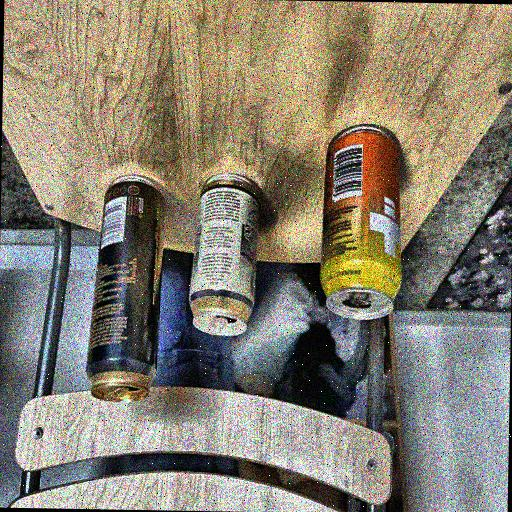karhu: (82, 172, 168, 414)
sandels: (181, 174, 268, 344)
